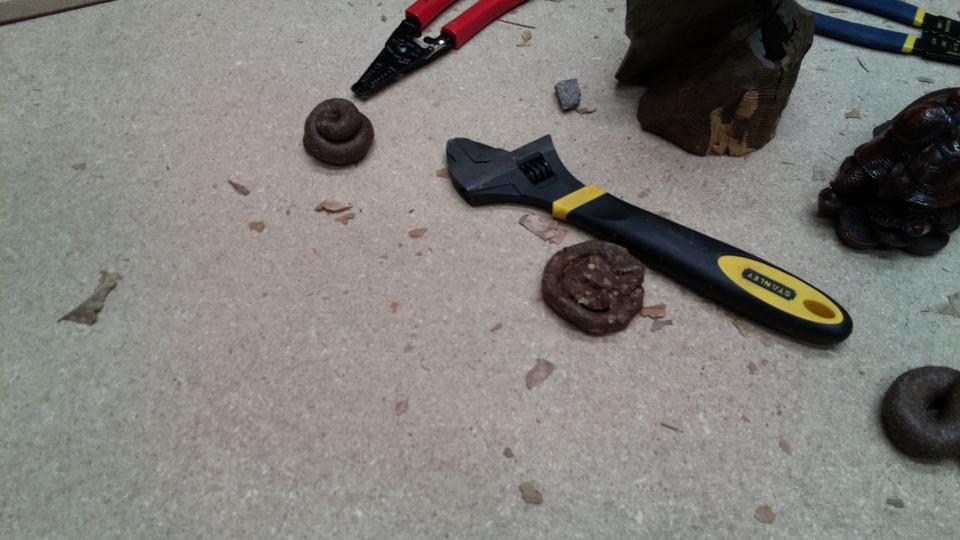poop: (538, 234, 649, 339), (875, 362, 960, 470), (297, 94, 379, 173)
